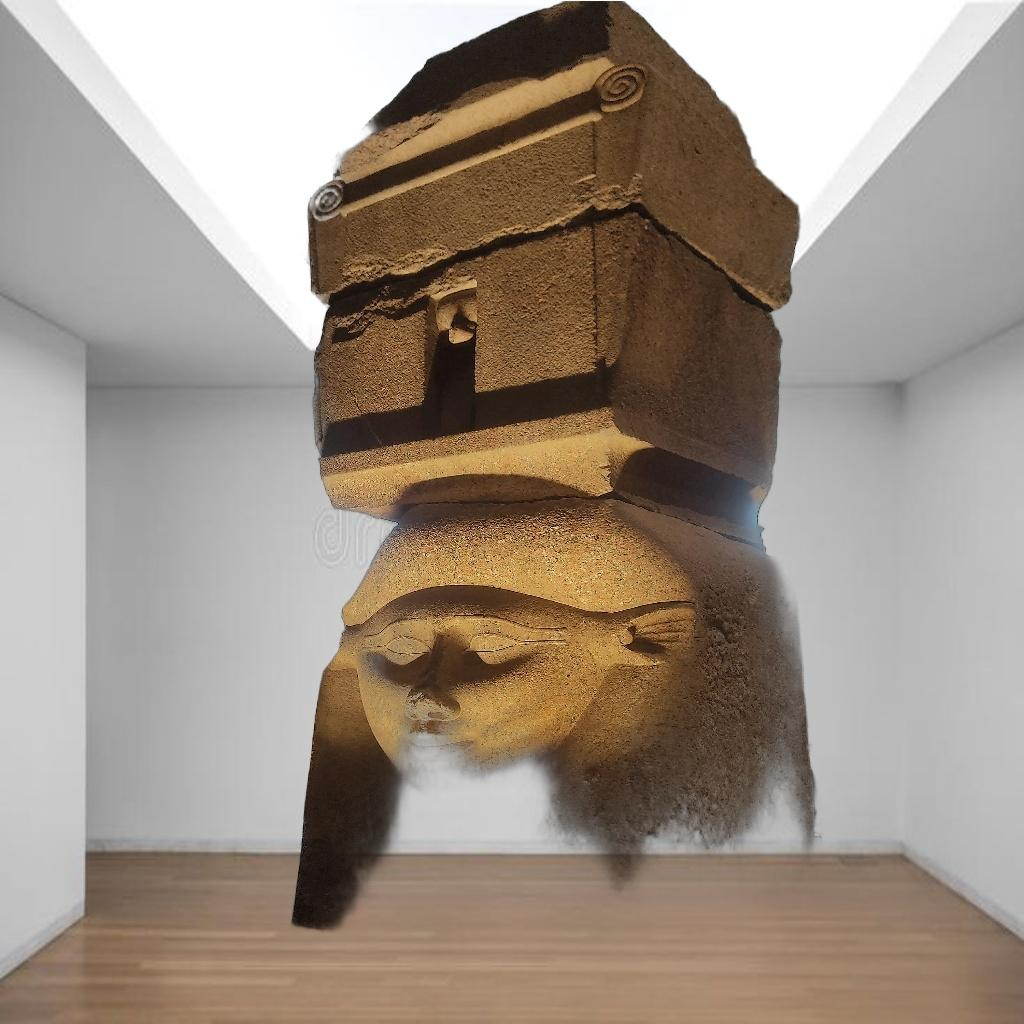Hathor Capital: (288, 2, 822, 984)
